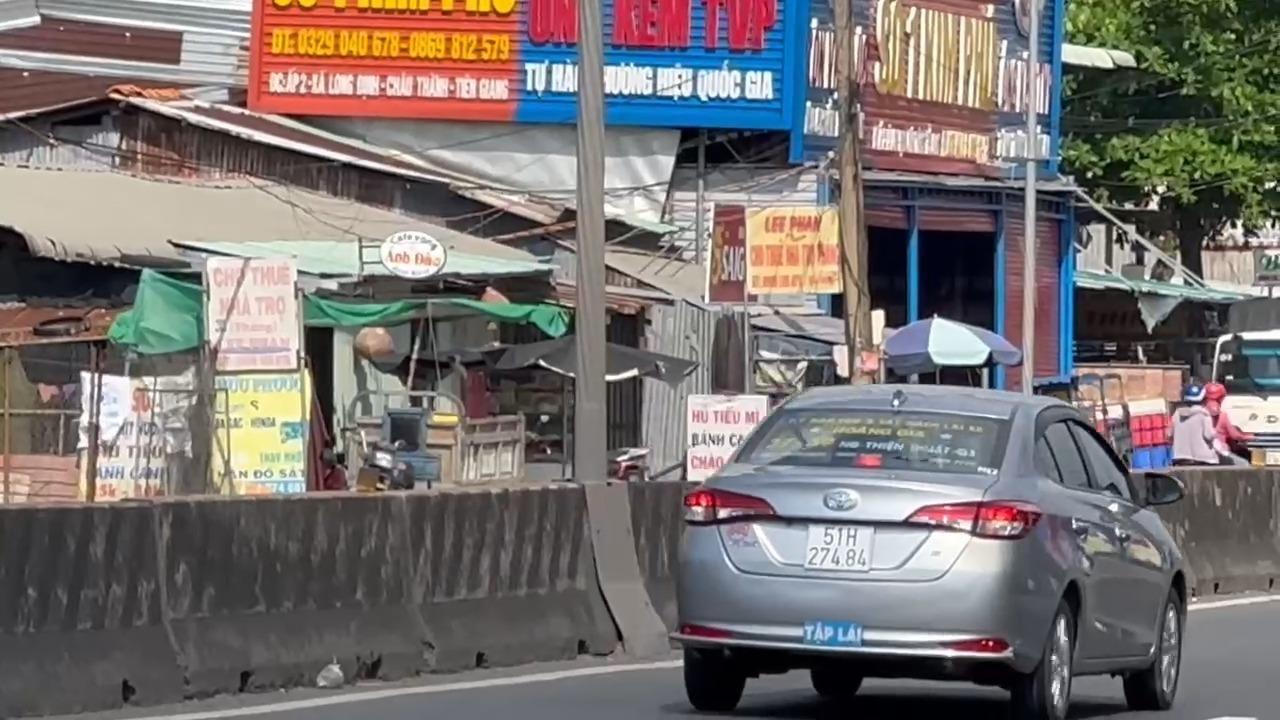bien_so: (803, 523, 874, 572)
